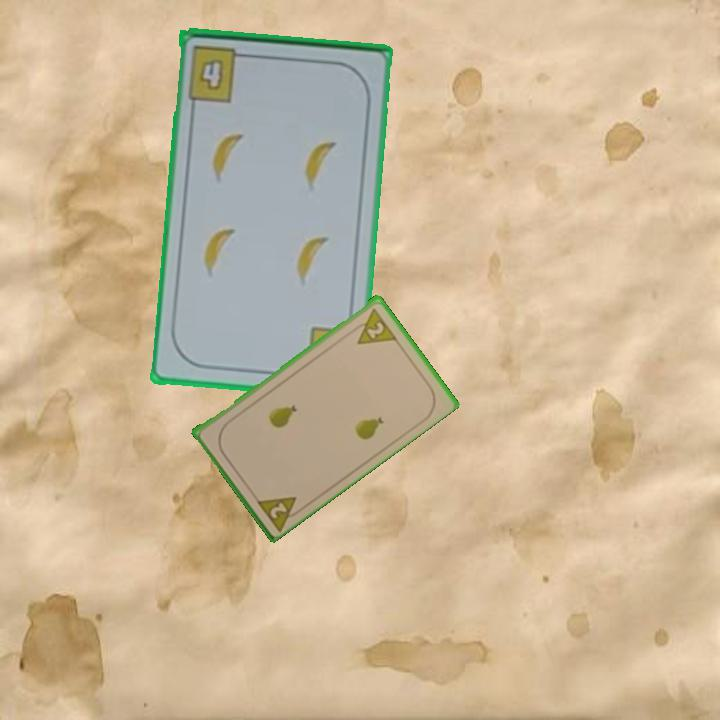2p: (252, 492, 307, 533), (347, 304, 399, 347)
4b: (185, 42, 252, 105)
